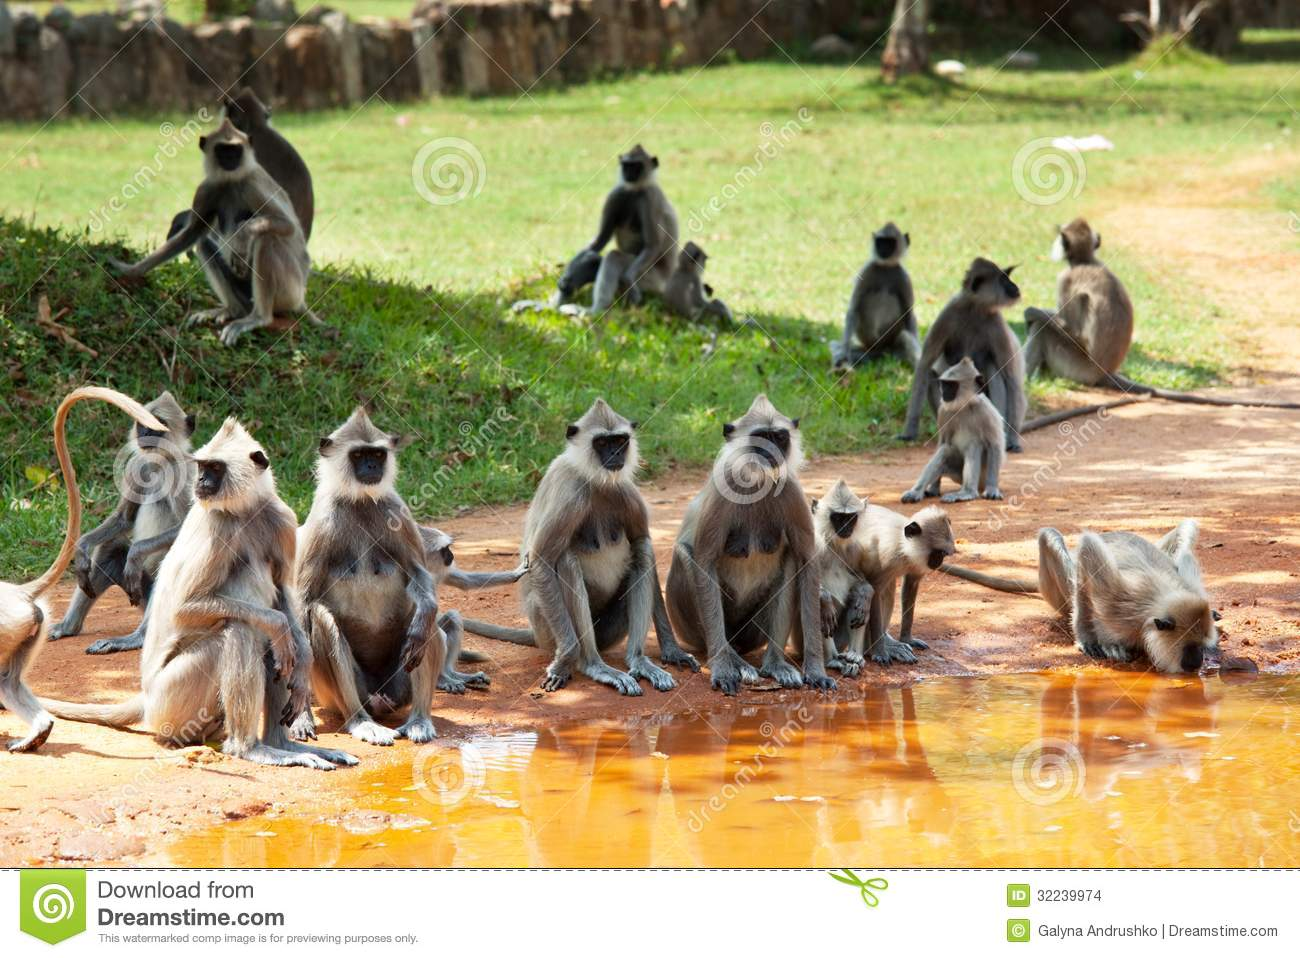Monkey: (287, 393, 458, 754), (137, 413, 300, 782), (670, 383, 825, 718), (518, 387, 671, 721)
